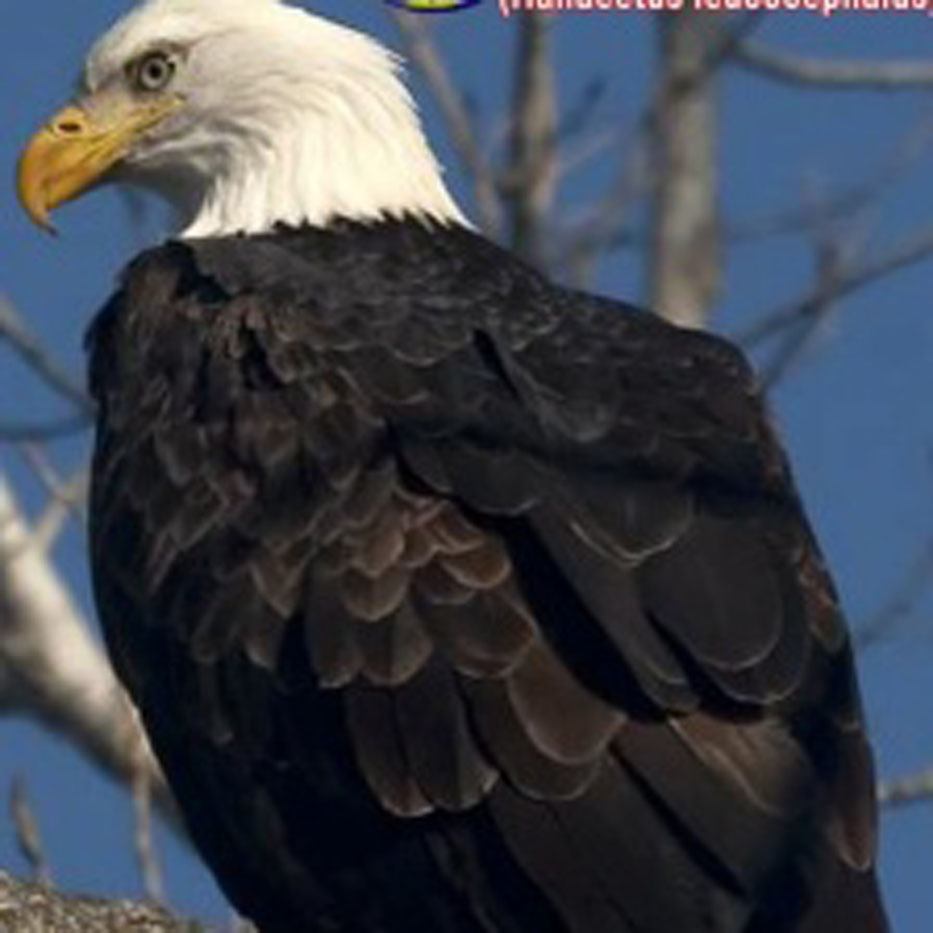Pengoyak Daging: (1, 104, 113, 245)
